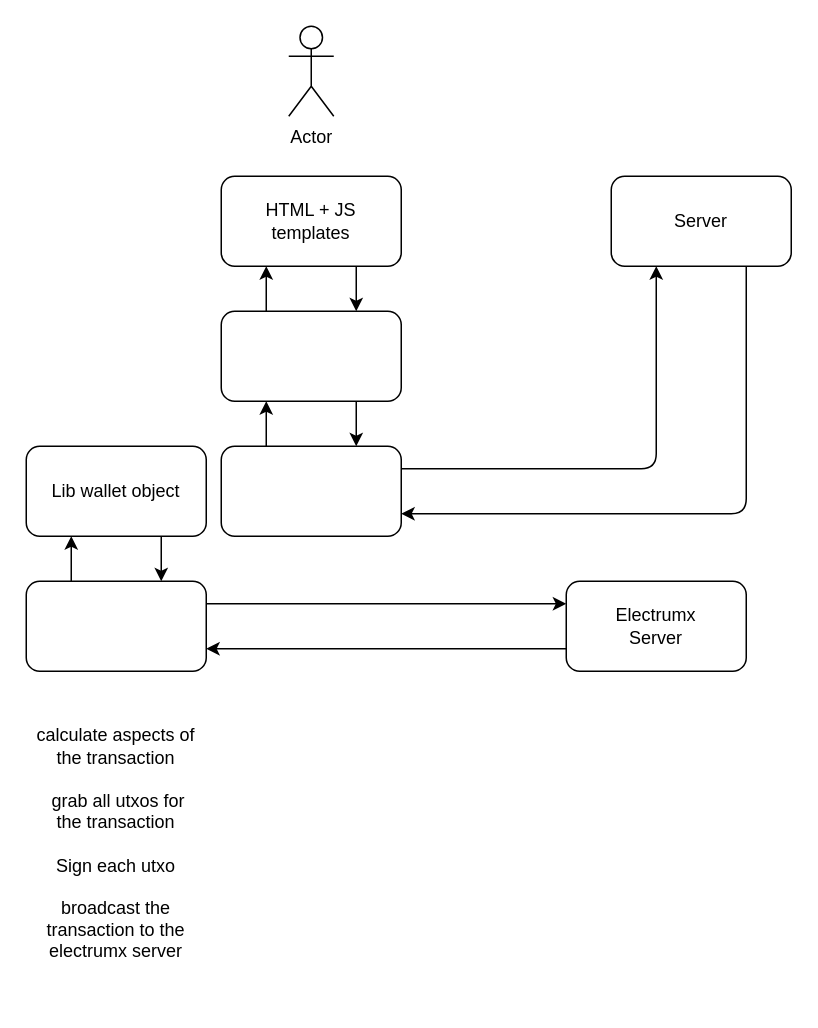
This 818x1028 diagram has some shape labels left out. Here are the shapes that lost their labels. From the top down, the centre of each, then its label:
pixel 310 355: Flask app in the Neuron
pixel 310 490: Lib server object
pixel 115 625: Base class functionality
